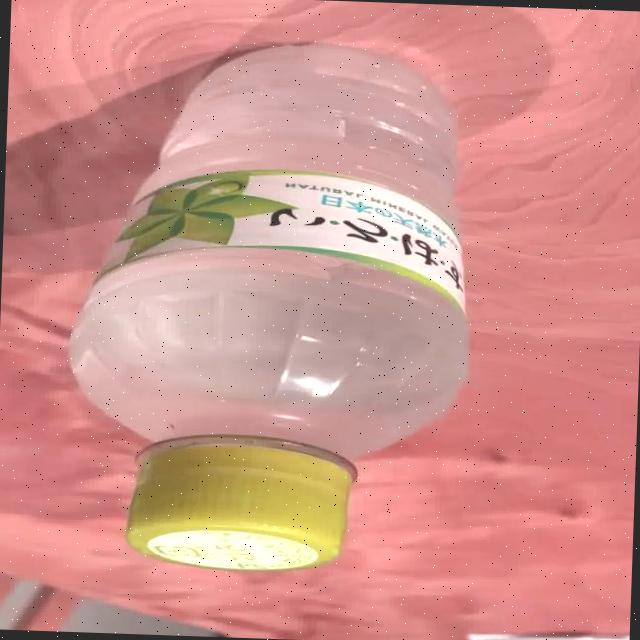bottle: (55, 30, 484, 582)
cap: (114, 424, 372, 568)
label: (62, 158, 494, 308)
